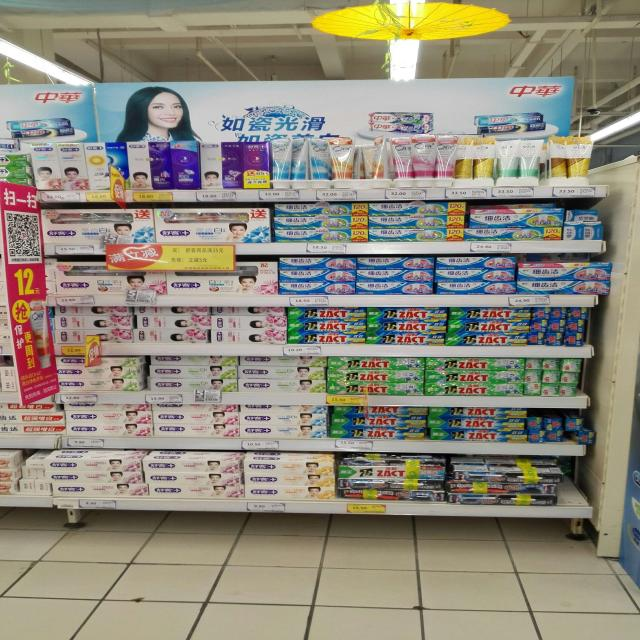unorganised: (134, 307, 210, 328), (148, 354, 241, 369), (197, 141, 224, 190), (361, 141, 391, 181), (212, 305, 286, 318), (290, 140, 309, 183)
